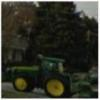tractors: (10, 55, 82, 98)
